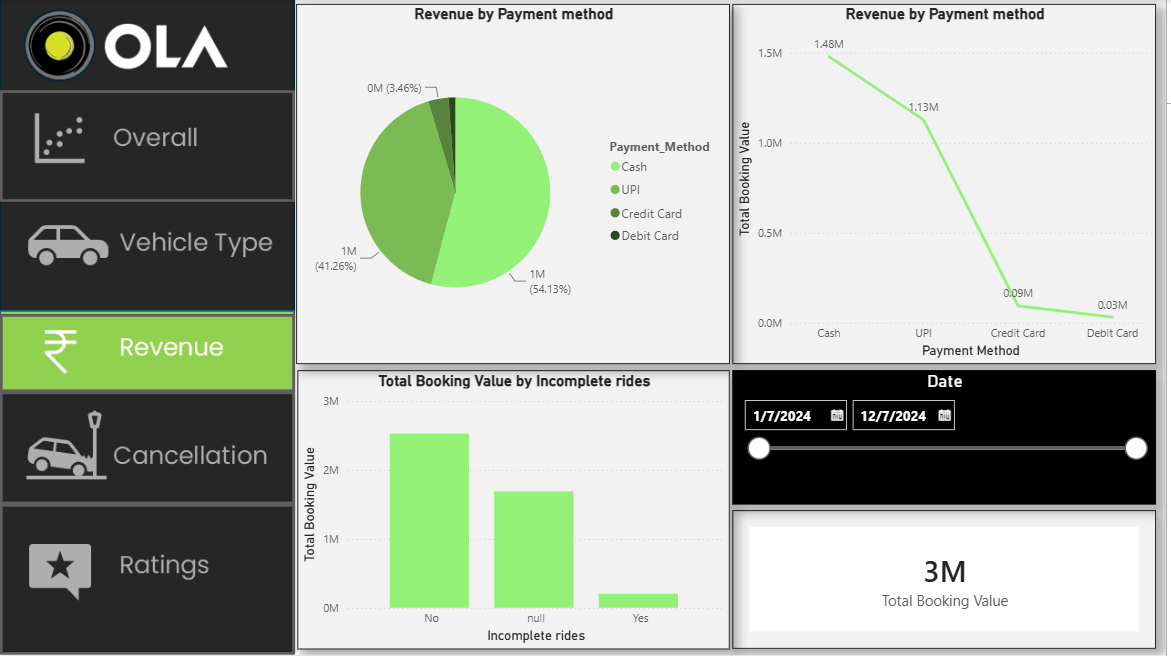

Layout of this report page (visuals, bound fields, positions):
{"tool":"powerbi","page":{"name":"Revenue","canvas":[1280,720],"ordinal":2},"visuals":[{"type":"actionButton","box":[0,345.2,323.8,85.7],"z":0},{"type":"actionButton","box":[0,431,323.8,123.8],"z":1000},{"type":"actionButton","box":[0,554.5,323.8,165.5],"z":2000},{"type":"actionButton","box":[0,100,323.8,122.6],"z":3000},{"type":"actionButton","box":[0,222.6,323.8,122.6],"z":4000},{"type":"pieChart","title":"Revenue by Payment method","fields":{"Category":["ola.Payment_Method"],"Y":["Sum(ola.Booking_Value)"]},"box":[325.2,5.5,476.2,395.2],"z":5000},{"type":"columnChart","fields":{"Y":["Sum(ola.Booking_Value)"],"Category":["ola.Incomplete_Rides"]},"box":[326.6,407.5,474.8,306],"z":6000},{"type":"lineChart","title":"Revenue by Payment method","fields":{"Category":["ola.Payment_Method"],"Y":["Sum(ola.Booking_Value)"]},"box":[804.1,5.5,465.2,395.2],"z":6001},{"type":"slicer","title":"Date","fields":{"Values":["ola.Date"]},"box":[804.1,407.5,465.2,146.8],"z":6002},{"type":"cardVisual","title":"Booking Status","fields":{"Data":["Sum(ola.Booking_Value)"]},"box":[804.1,561.2,465.2,152.3],"z":6003}]}

Visuals, with their boxes in screenshot pixels (x1, y1, x2, y2), scaled from the page's 1280x720 canvas onto the 1171x656 screenshot:
actionButton: {"x1": 0, "y1": 315, "x2": 296, "y2": 393}
actionButton: {"x1": 0, "y1": 393, "x2": 296, "y2": 505}
actionButton: {"x1": 0, "y1": 505, "x2": 296, "y2": 655}
actionButton: {"x1": 0, "y1": 91, "x2": 296, "y2": 203}
actionButton: {"x1": 0, "y1": 203, "x2": 296, "y2": 315}
"Revenue by Payment method" pieChart: {"x1": 298, "y1": 5, "x2": 733, "y2": 365}
columnChart - Sum(ola.Booking_Value) x ola.Incomplete_Rides: {"x1": 299, "y1": 371, "x2": 733, "y2": 650}
"Revenue by Payment method" lineChart: {"x1": 736, "y1": 5, "x2": 1161, "y2": 365}
"Date" slicer: {"x1": 736, "y1": 371, "x2": 1161, "y2": 505}
"Booking Status" cardVisual: {"x1": 736, "y1": 511, "x2": 1161, "y2": 650}
